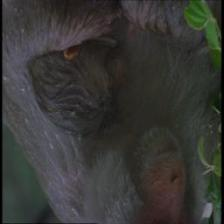monkey: (18, 32, 136, 138), (136, 118, 212, 222)
